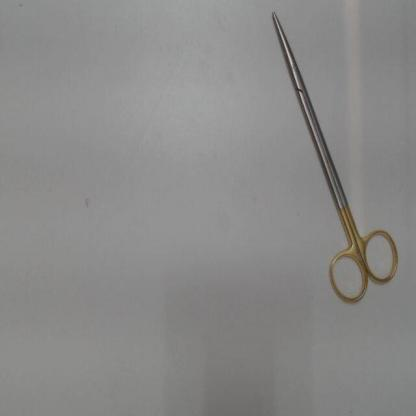7 Metzenbaum Scissors: (268, 3, 404, 310)
